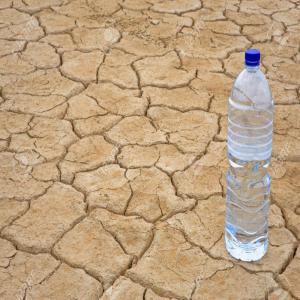Plastic-bottle: (225, 49, 274, 264)
